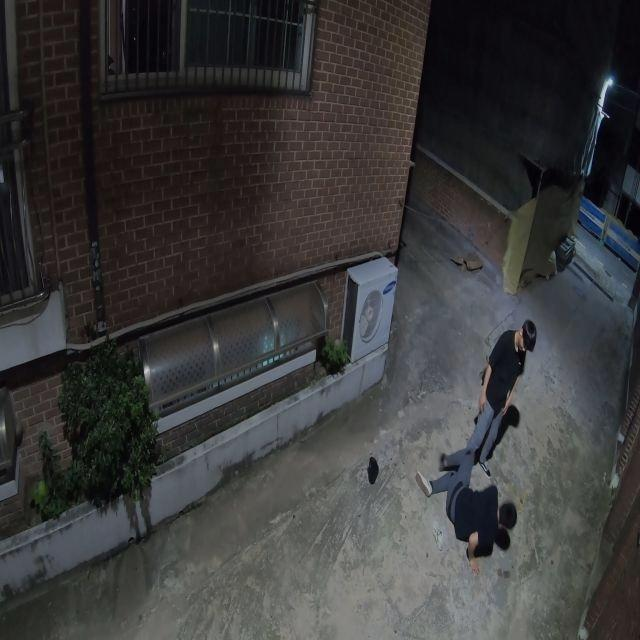fight: (418, 315, 536, 564)
